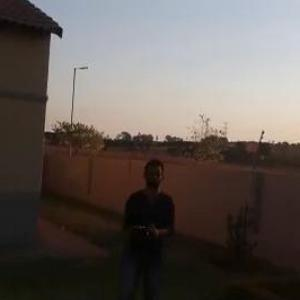follow: (113, 152, 178, 299)
